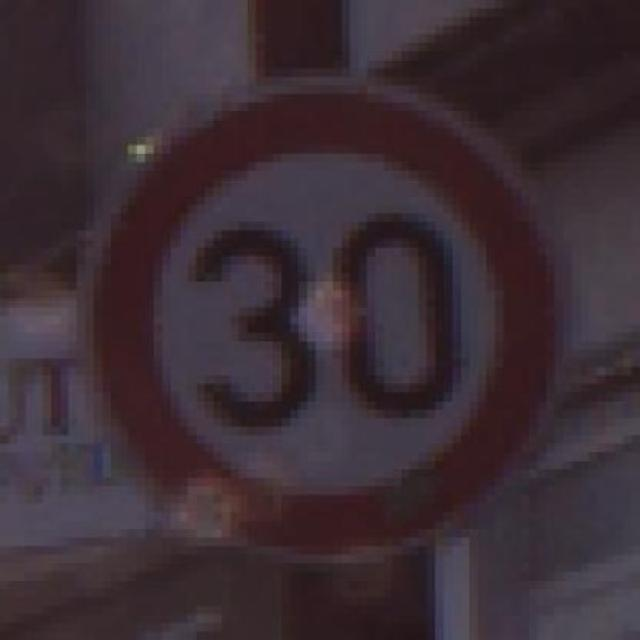Speed Limit 30 KMPh: (68, 68, 606, 572)
